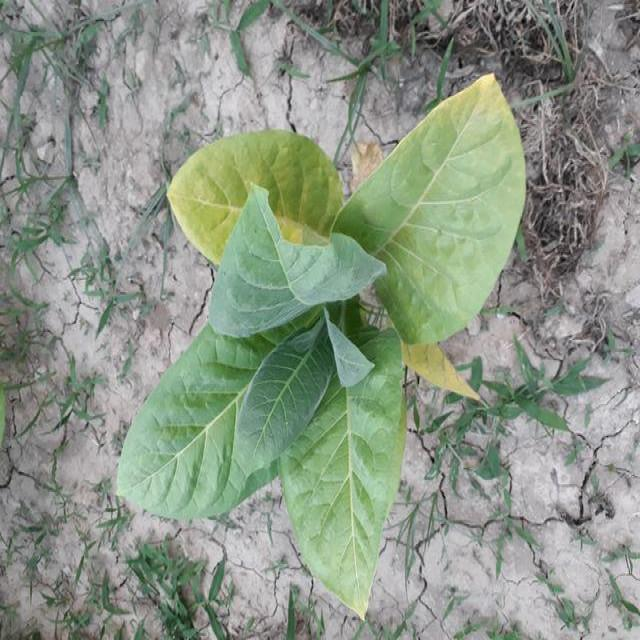crop: (131, 85, 528, 582)
